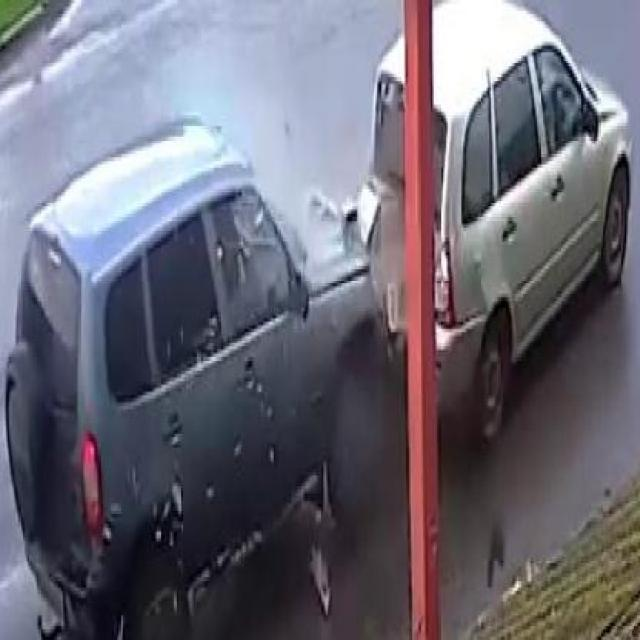accident: (0, 17, 631, 571)
